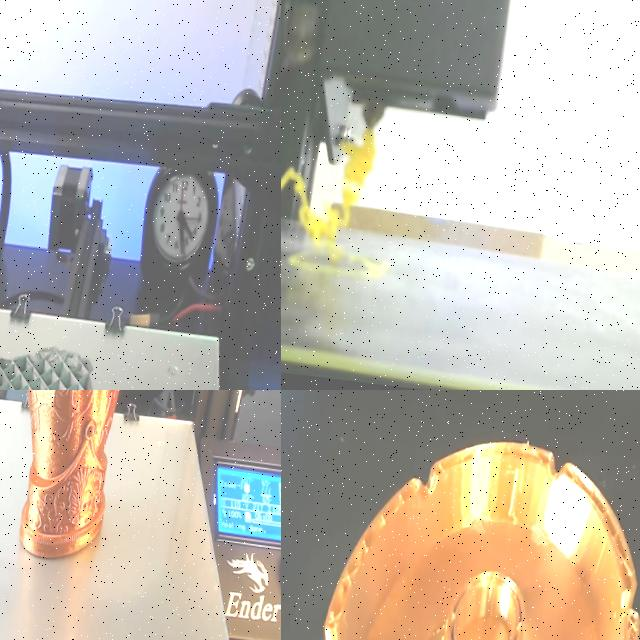spaghetti: (281, 128, 388, 275)
